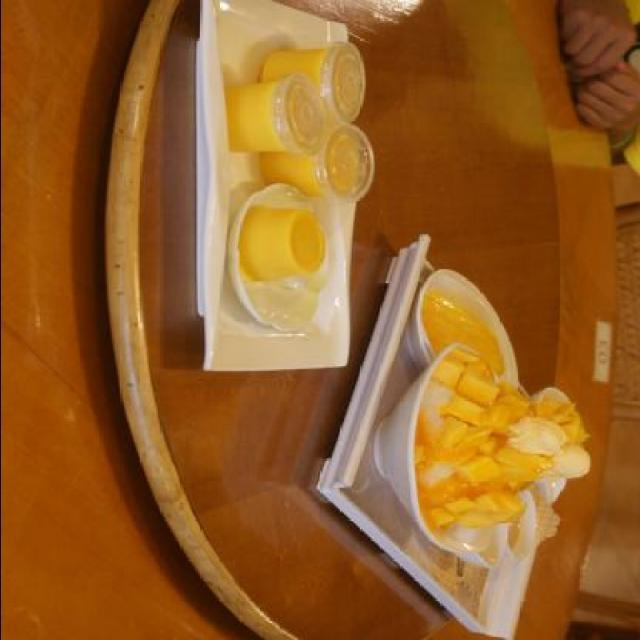Mango: (413, 360, 570, 542)
